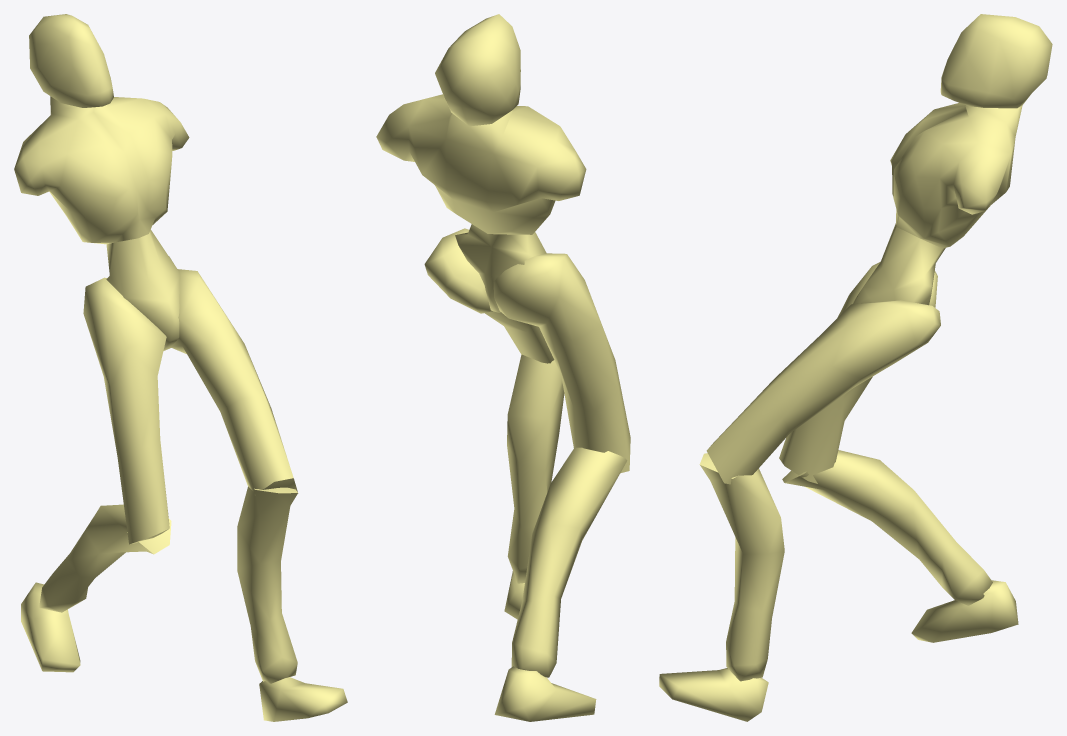
Rendered from filth24.obj.
The picture shows the model from 3 angles, left to right: view 1: azimuth 30°, elevation 25°; view 2: azimuth 150°, elevation 25°; view 3: azimuth 270°, elevation 25°; orthographic projection. The views are drawn at different scales.
Parts seen in each view (by area): view 1: Melee_Husk; view 2: Melee_Husk; view 3: Melee_Husk.
Part boxes in pixels (bbox=[...]): Melee_Husk: bbox=[14, 14, 347, 721]; Melee_Husk: bbox=[376, 14, 630, 721]; Melee_Husk: bbox=[659, 14, 1052, 721].
Bounding box in the file's own units: 22.87 × 73.66 × 39.74.
